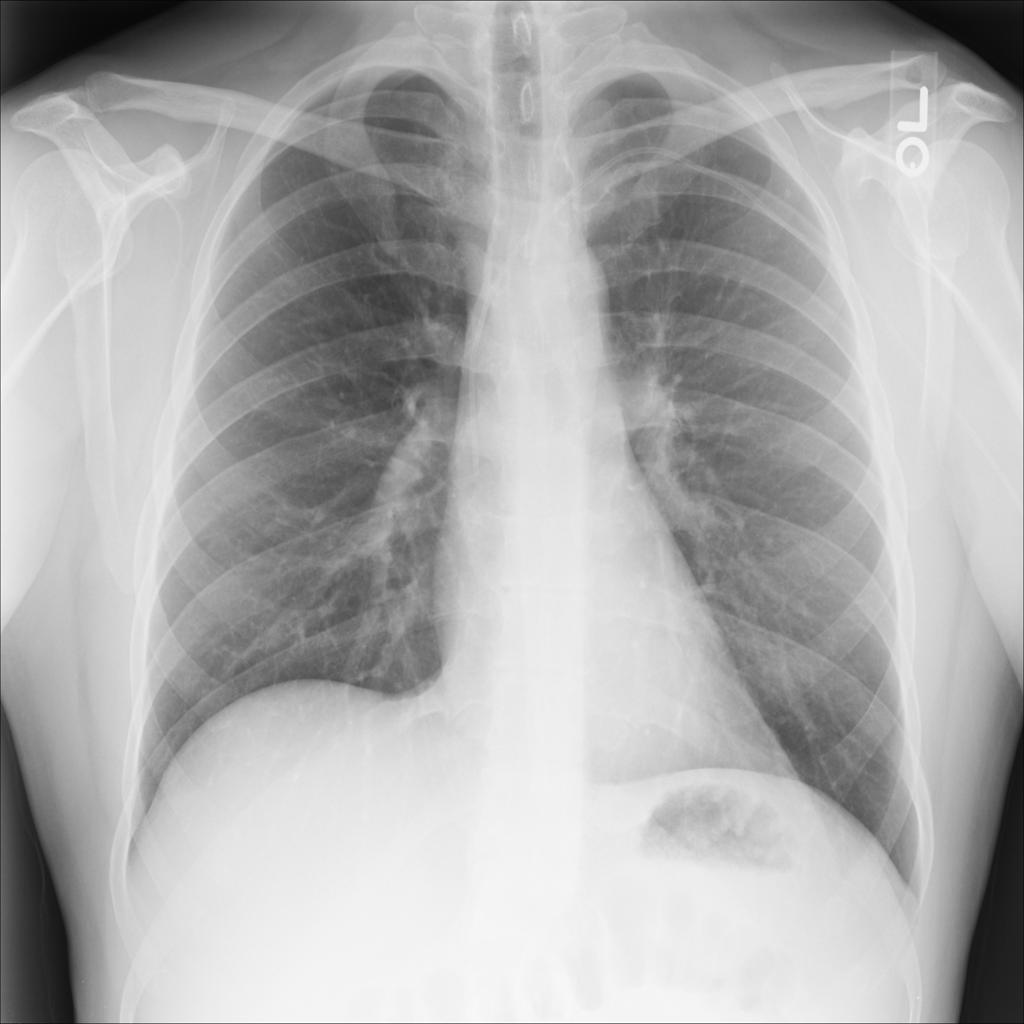nodule: (773, 173, 810, 210)
